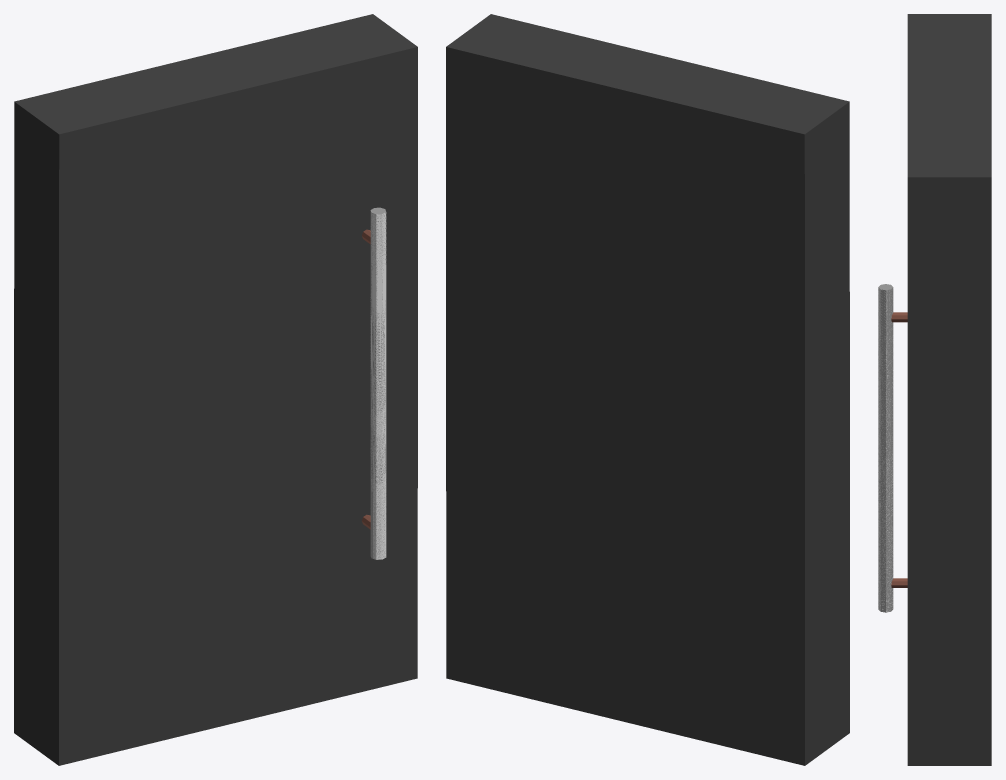
Rendered from Door.fbx.
3 renders of one model, left to right at view 1: azimuth 30°, elevation 25°; view 2: azimuth 150°, elevation 25°; view 3: azimuth 270°, elevation 25°, orthographic. The views are drawn at different scales.
Visible parts, largest first — view 1: Door; view 2: Door; view 3: Door.
Boxes of the visible parts, x1,y1,x2,y2 form: Door: (14,14,417,765); Door: (446,14,849,765); Door: (878,14,991,765).
Bounding box in the file's own units: 92.21 × 155 × 27.03.
